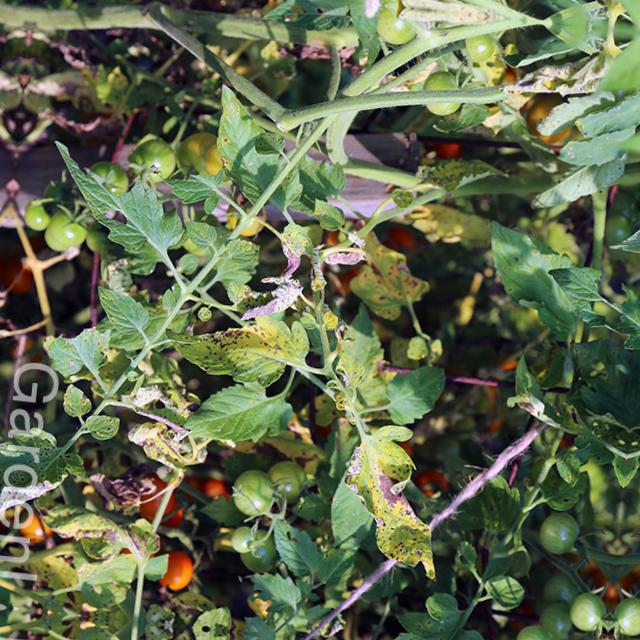Tomato Early blight leaf: (332, 417, 452, 584), (479, 226, 588, 334), (174, 309, 311, 392), (207, 90, 279, 218), (182, 373, 293, 453), (351, 237, 428, 322), (372, 588, 488, 640), (336, 305, 389, 397)
